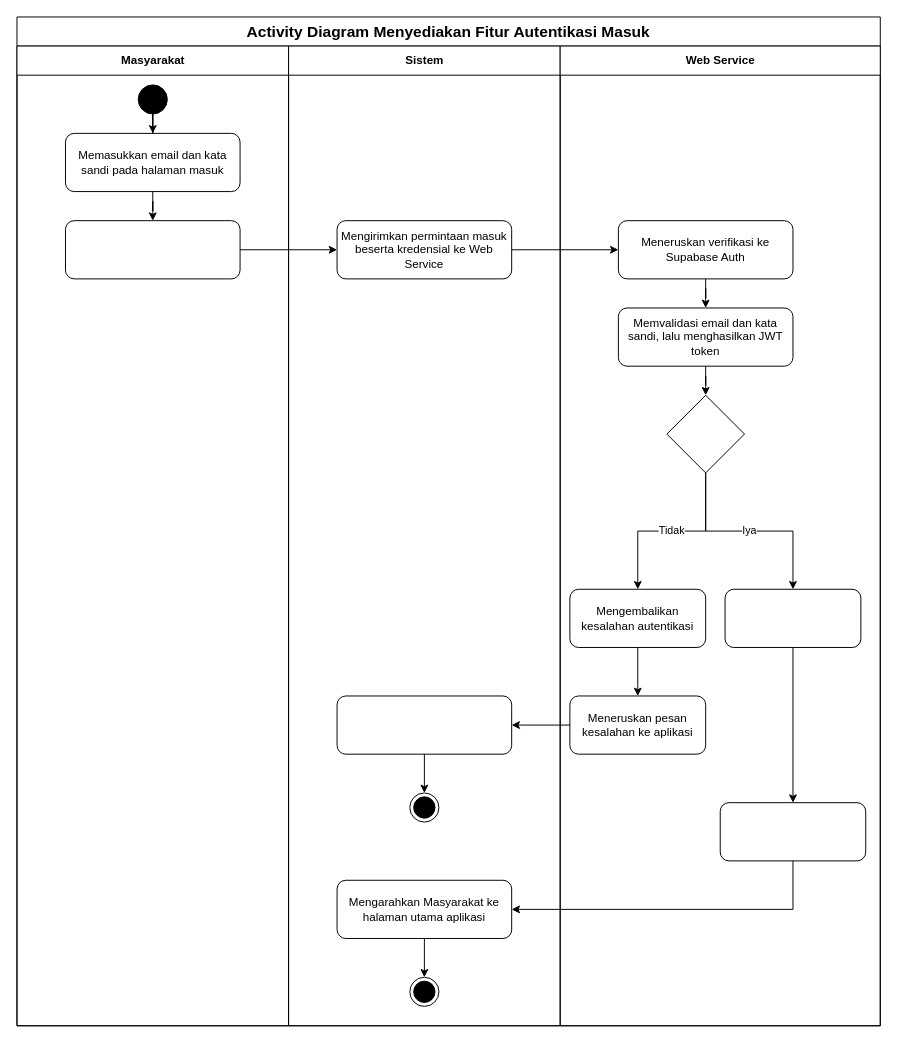
The diagram is 897 pixels wide and 1043 high, and some of its shapes have lost their labels. The shapes that lost their labels are listed below. From the top down, each one's centre as x and y in pixels, then its label:
the point at 152,249: Menekan tombol "Masuk"
the point at 705,433: Valid?
the point at 792,617: Memproses token dan mengirimkannya kembali
the point at 424,724: Menampilkan pesan email atau kata sandi salah
the point at 792,831: Menyimpan token secara aman pada secure storage perangkat
